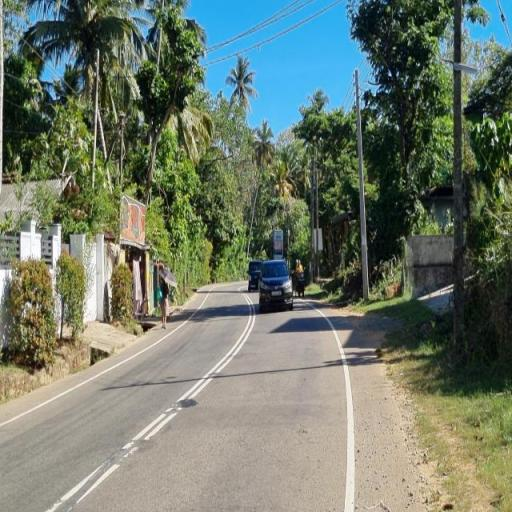double_white_line: (51, 294, 256, 488)
